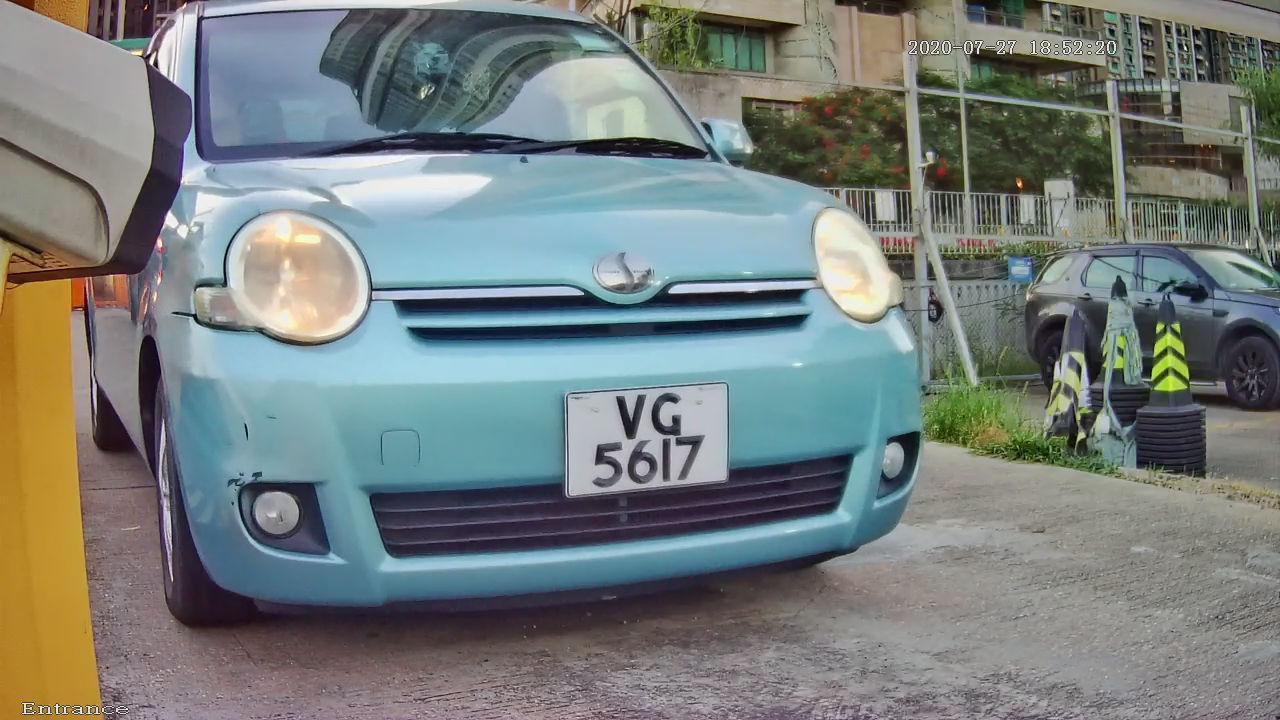privatecar: (52, 17, 1006, 637)
